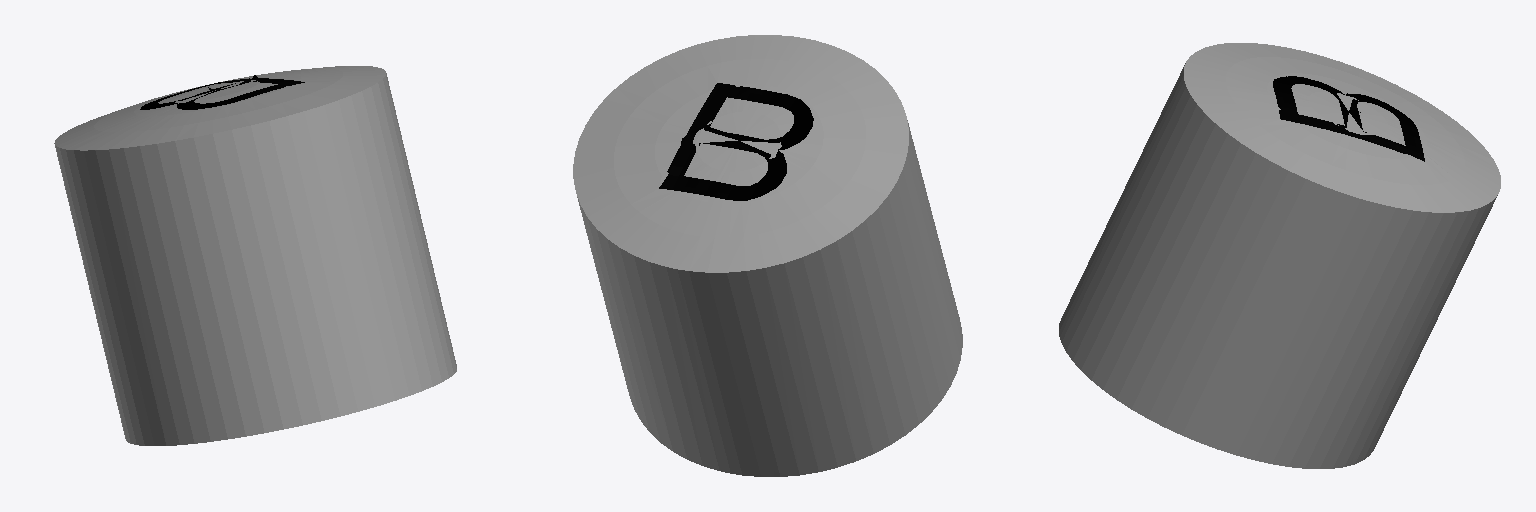
3 views of the same model, side by side, from view 1: azimuth 30°, elevation 25°; view 2: azimuth 150°, elevation 25°; view 3: azimuth 270°, elevation 25° (orthographic).
Parts seen in each view (by area): view 1: button_b_r_body.001; view 2: button_b_r_body.001; view 3: button_b_r_body.001.
Part boxes in pixels (x1,y1,x2,y2): button_b_r_body.001: (54,66,456,445); button_b_r_body.001: (573,35,962,476); button_b_r_body.001: (1059,43,1500,468).
Size of the model in its own units: 0.0081 by 0.0092 by 0.0103.
Materials: 1 (1 with a texture image).